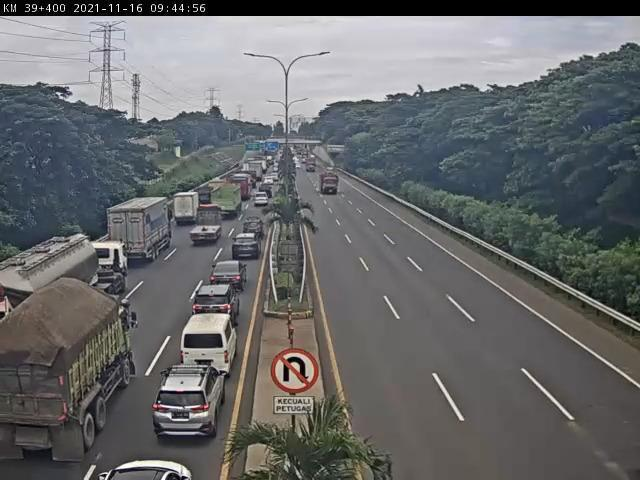car: (153, 367, 225, 439), (182, 315, 237, 376), (189, 287, 237, 335), (209, 260, 246, 292), (230, 233, 262, 262), (242, 219, 269, 243), (251, 191, 272, 212)
truck: (1, 277, 137, 459), (1, 233, 133, 338), (108, 199, 175, 265), (190, 208, 225, 250), (208, 182, 244, 221), (170, 190, 201, 226)
